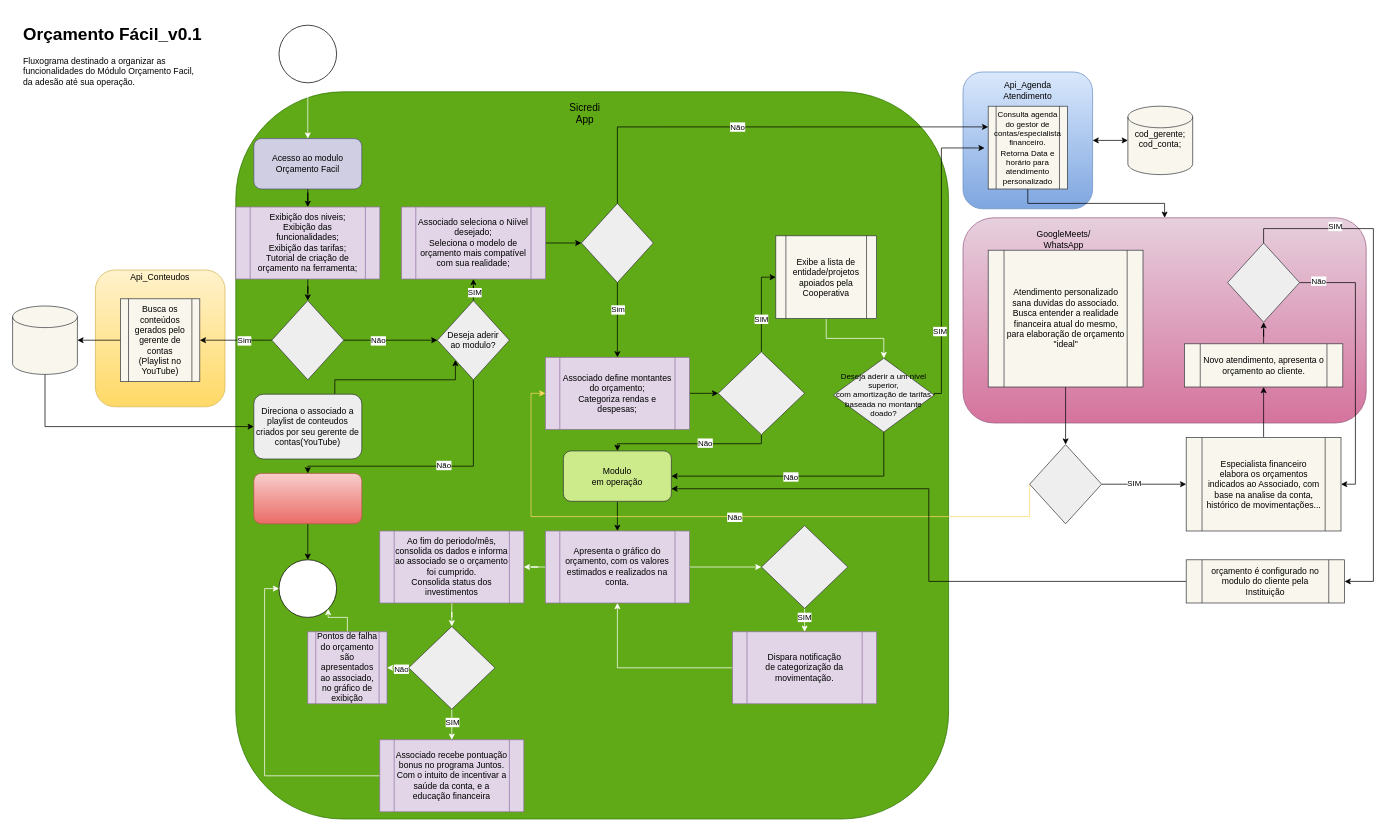
The diagram is 1392 pixels wide and 832 high, and some of its shapes have lost their labels. Each missing label, with the box of its shape:
cod_gerente; cod_conta; playlist_link: (12, 305, 77, 374)
Definido montante para doaçao?: (717, 351, 805, 435)
Débitos estimados foram cumpridos?: (408, 626, 495, 709)
FIM: (278, 559, 337, 617)
Inicio: (278, 24, 337, 83)
Mais informaçoes?: (271, 300, 344, 380)
Modulo Inativo: (253, 473, 362, 524)
Nivel 1?: (581, 203, 653, 283)
Nivel 3?: (1029, 444, 1102, 524)
Operação de débito/ crédito?: (761, 525, 848, 608)
Orçamento aprovado?: (1227, 242, 1300, 322)
